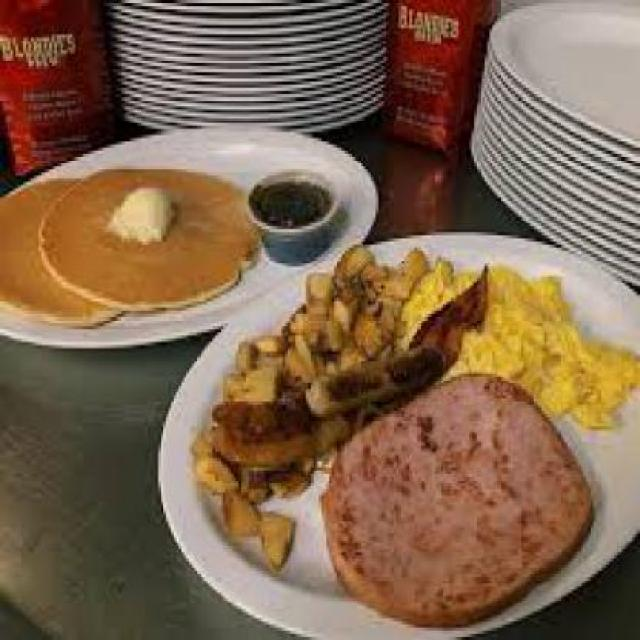ice cream: (106, 182, 171, 238)
omelette: (409, 258, 637, 424)
